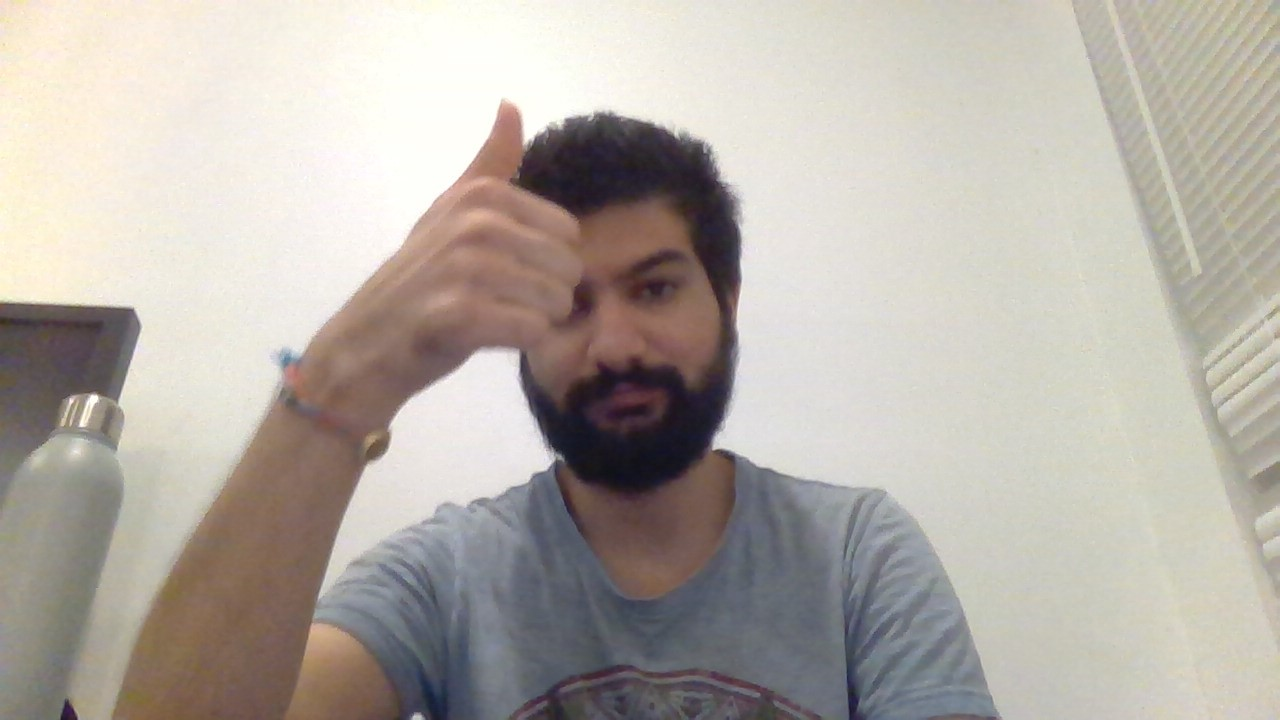up: (419, 94, 587, 361)
